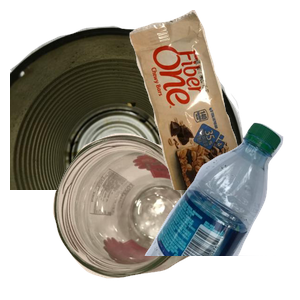glass: (50, 131, 252, 300)
metal: (10, 23, 250, 203)
plastic: (142, 120, 300, 300)
trash: (127, 10, 300, 190)
